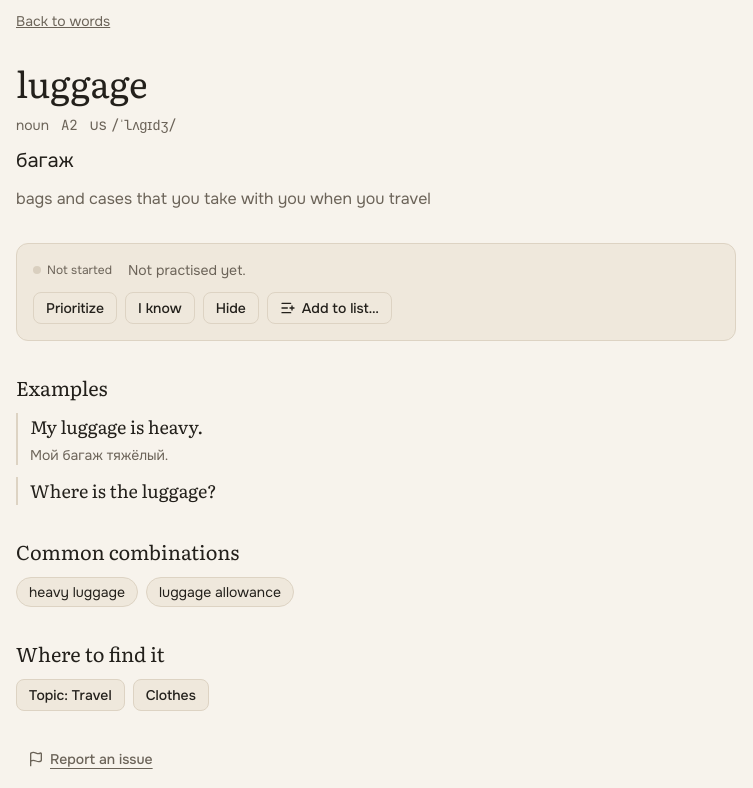
Test case: the word page (B6.8) › a lost reply also goes back, with Retry; one request at a time
The width and height of the screenshot is (753, 788).
Click the button "Hide". click: (231,308)
box: [203, 292, 259, 324]
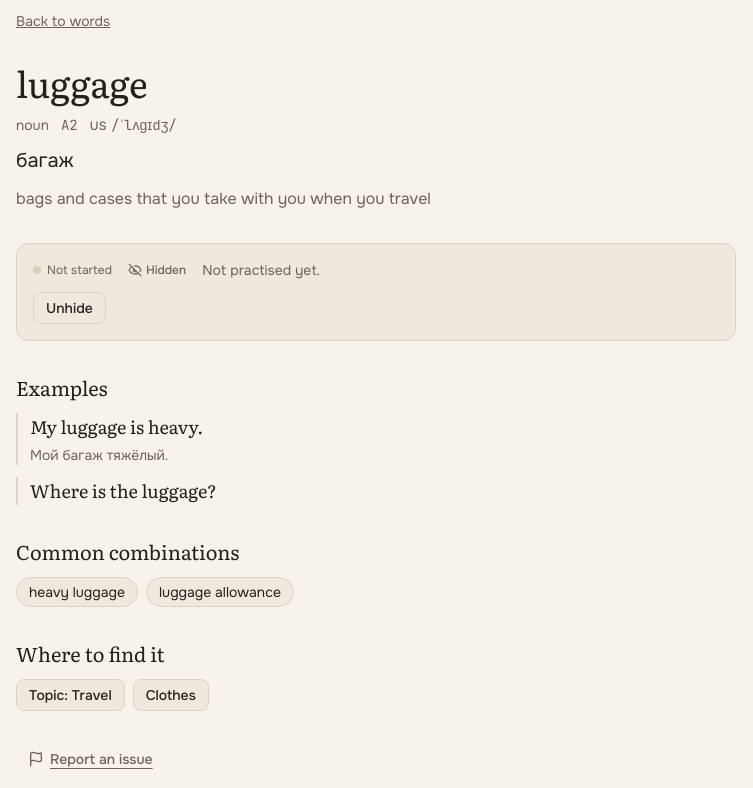
// The same element is now Unhide: a second click while the first is in flight is ignored.
Click the button "Unhide". click: (69,308)
box: [33, 292, 106, 324]
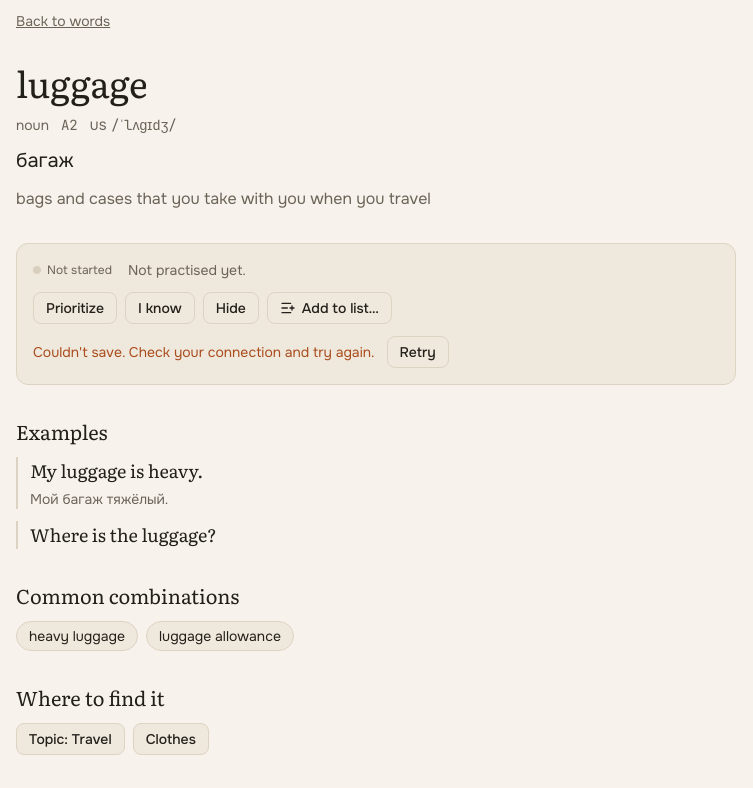
Expected: the message shows "Couldn't save. Check your connection and try again.", [33, 343, 374, 361]
